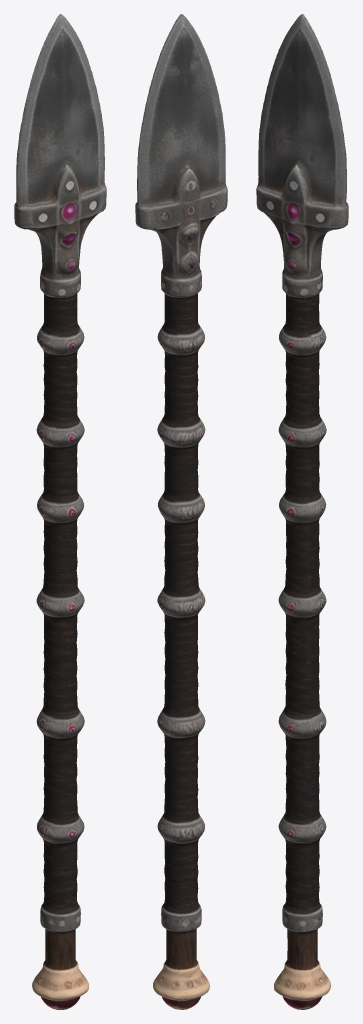
File: Spear.glb
The picture shows the model from 3 angles, left to right: view 1: azimuth 30°, elevation 25°; view 2: azimuth 210°, elevation 25°; view 3: azimuth 330°, elevation 25°; orthographic projection.
Bounding box in the file's own units: 0.1773 × 1.9 × 0.0999.
Materials: 1 (1 with a texture image).
